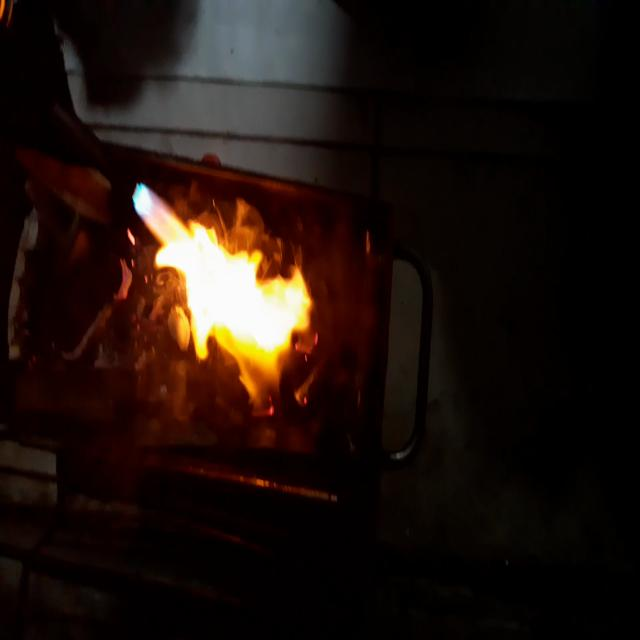Fire: (131, 163, 316, 402)
